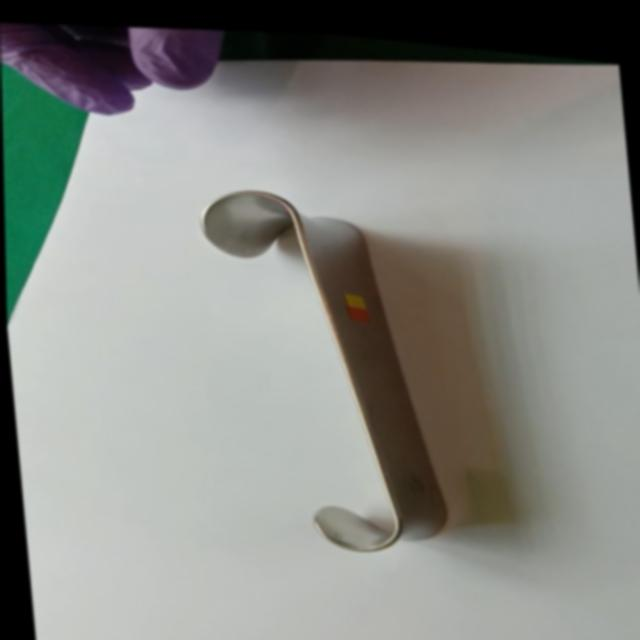CheekRetractor: (188, 162, 456, 561)
